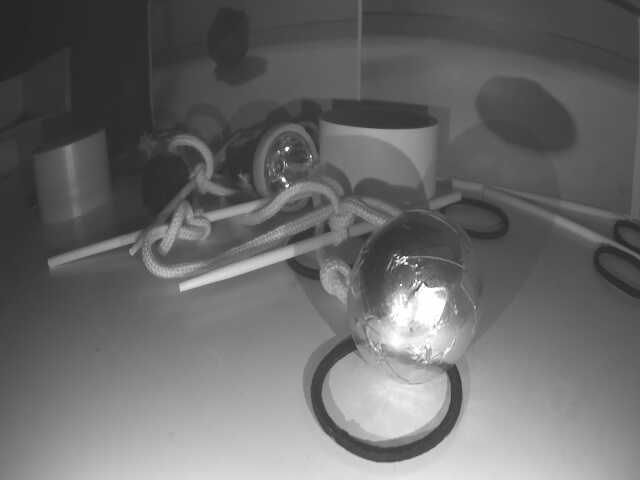Dead: (138, 154, 190, 216)
Live: (343, 208, 483, 387)
Point: (0, 111, 70, 172)
